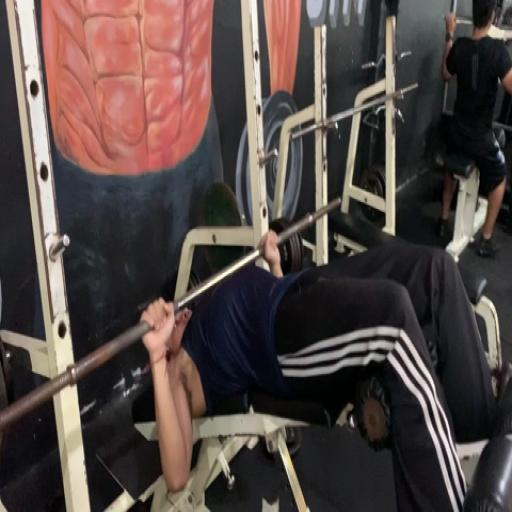exercise: (138, 228, 511, 510), (432, 0, 511, 260)
